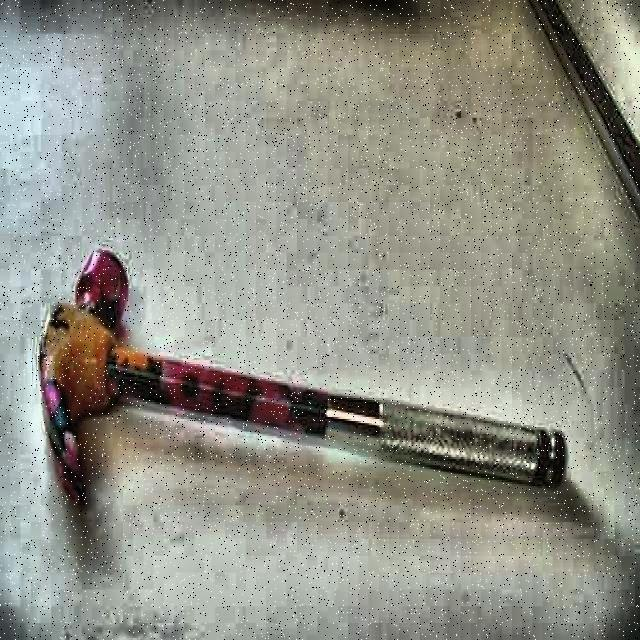hammer: (37, 247, 569, 529)
